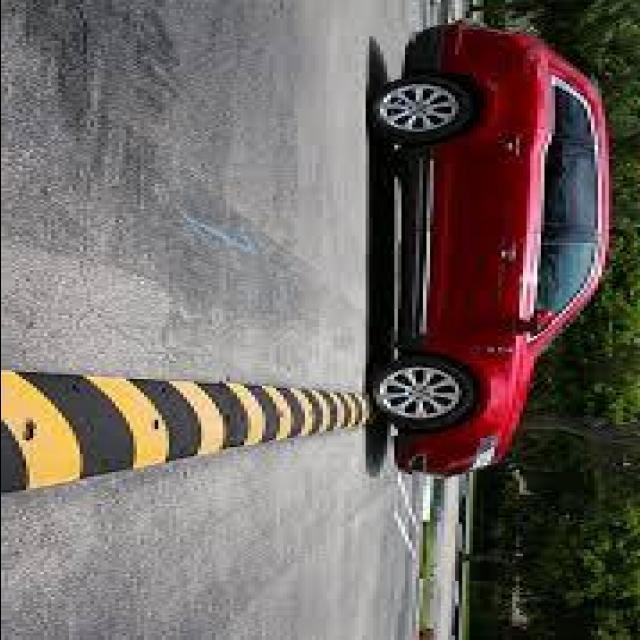speedbreaker: (0, 357, 379, 504)
